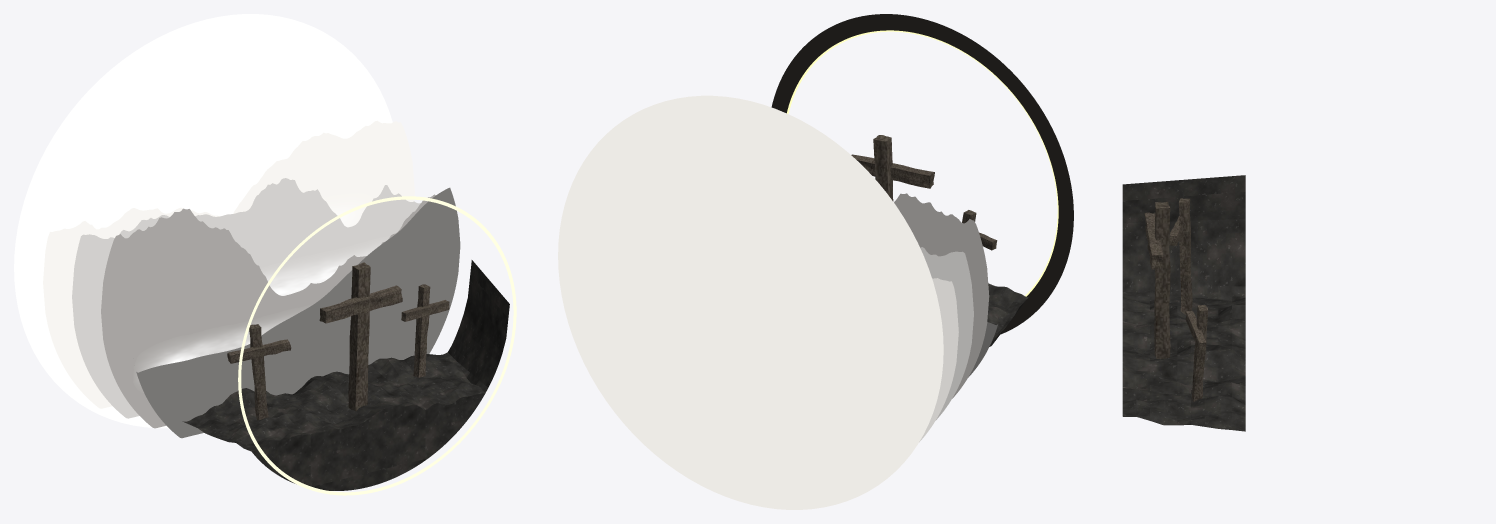
The model's file is activacion_01.glb.
3 views of the same model, side by side, from view 1: azimuth 30°, elevation 25°; view 2: azimuth 150°, elevation 25°; view 3: azimuth 270°, elevation 25° (orthographic). The views are drawn at different scales.
Parts seen in each view (by area): view 1: cielo, roca, cordon_2, cordon_3, cordon_1, cordon_0, Cube, filo, niebla_2, niebla_1, Cube.001, Cube.002; view 2: cielo, marco, cordon_2, cordon_1, cordon_0, Cube, roca, filo; view 3: roca, Cube, Cube.001, Cube.002.
Boxes of the visible parts, x1,y1,x2,y2 form: cielo: (14, 14, 392, 428); roca: (182, 260, 509, 490); cordon_2: (101, 194, 435, 428); cordon_3: (136, 187, 460, 438); cordon_1: (72, 178, 420, 418); cordon_0: (43, 120, 414, 408); Cube: (319, 262, 402, 411); filo: (238, 196, 516, 495); niebla_2: (141, 316, 291, 370); niebla_1: (263, 245, 378, 295); Cube.001: (227, 324, 291, 420); Cube.002: (401, 284, 449, 377); cielo: (558, 95, 943, 509); marco: (771, 14, 1073, 334); cordon_2: (894, 193, 989, 398); cordon_1: (920, 247, 973, 419); cordon_0: (919, 278, 958, 442); Cube: (851, 135, 934, 201); roca: (987, 283, 1028, 346); filo: (786, 30, 1058, 296); roca: (1122, 175, 1245, 431); Cube: (1144, 201, 1170, 359); Cube.001: (1169, 198, 1192, 315); Cube.002: (1185, 305, 1208, 401).
Size of the model in its own units: 1.01 by 1.01 by 0.772.
10 materials, 3 textured.
